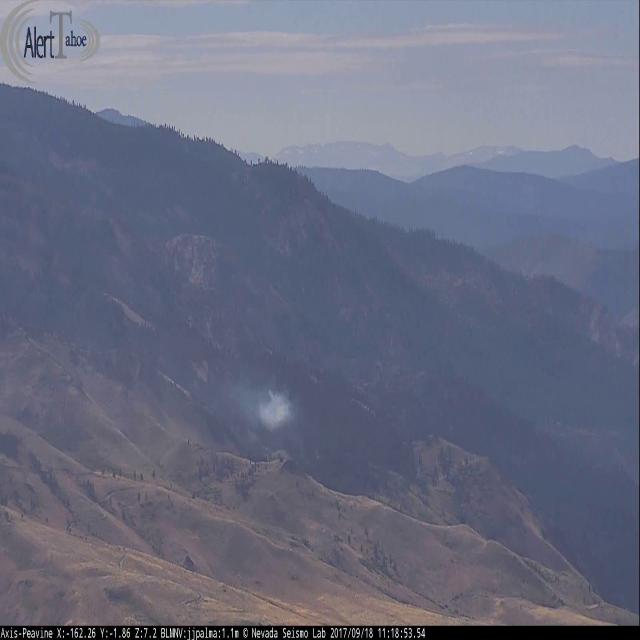smoke: (206, 372, 304, 433)
